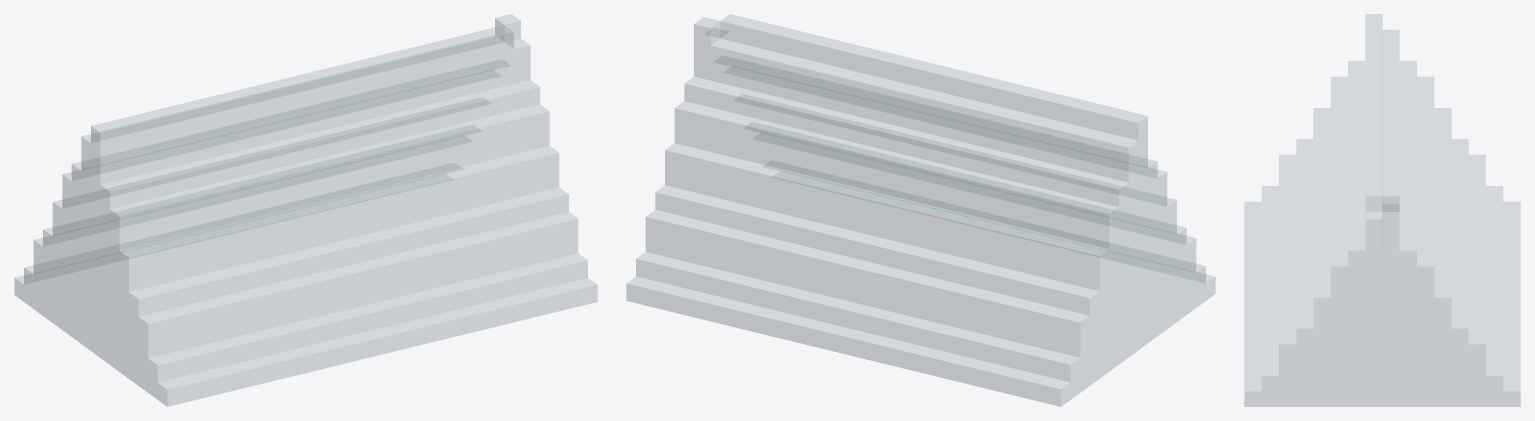
The model's file is glass_prism.glb.
The picture shows the model from 3 angles, left to right: view 1: azimuth 30°, elevation 25°; view 2: azimuth 150°, elevation 25°; view 3: azimuth 270°, elevation 25°; orthographic projection. The views are drawn at different scales.
Parts seen in each view (by area): view 1: glass_prism:compound; view 2: glass_prism:compound; view 3: glass_prism:compound.
Part boxes in pixels (bbox=[...]): glass_prism:compound: bbox=[14, 14, 597, 406]; glass_prism:compound: bbox=[626, 14, 1215, 406]; glass_prism:compound: bbox=[1244, 14, 1520, 406].
Bounding box in the file's own units: 0.052 × 0.026 × 0.032.
